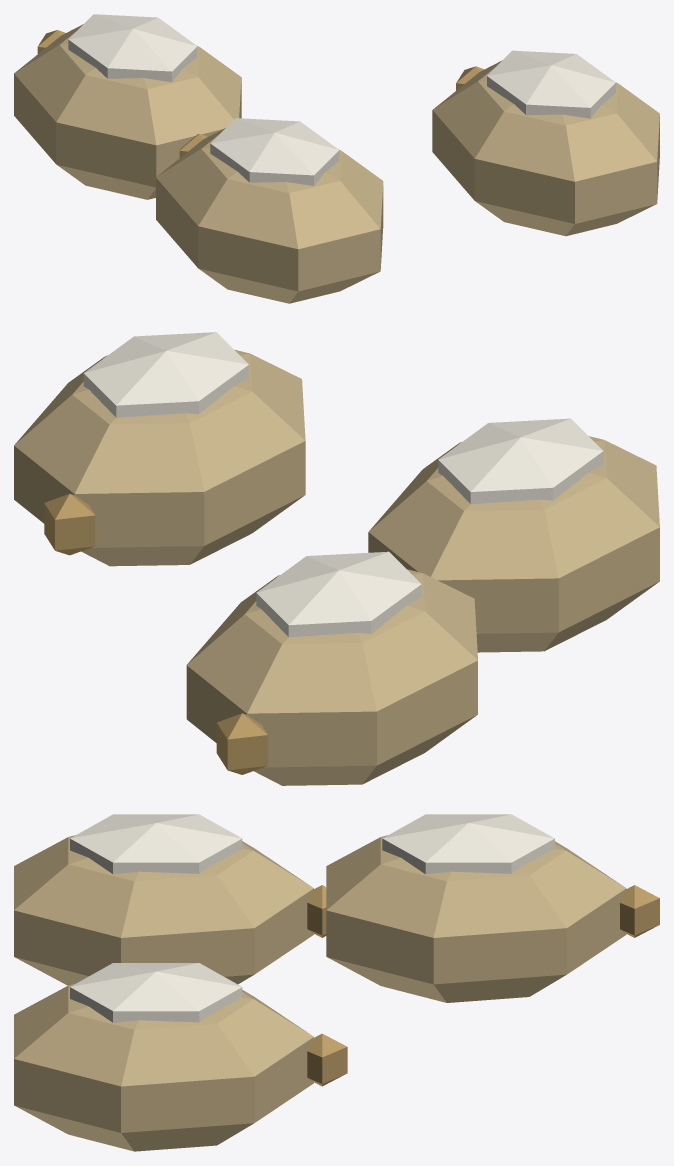
File: pile_flour_1.glb
3 views of the same model, one above another, from view 1: azimuth 30°, elevation 25°; view 2: azimuth 150°, elevation 25°; view 3: azimuth 270°, elevation 25° (orthographic). The views are drawn at different scales.
Parts seen in each view (by area): view 1: pile_flour_1; view 2: pile_flour_1; view 3: pile_flour_1.
Boxes of the visible parts, x1=… form: pile_flour_1: x1=14, y1=14, x2=659, y2=303; pile_flour_1: x1=14, y1=332, x2=659, y2=785; pile_flour_1: x1=14, y1=814, x2=659, y2=1151.
Bounding box in the file's own units: 1.2 × 0.37 × 1.32.
